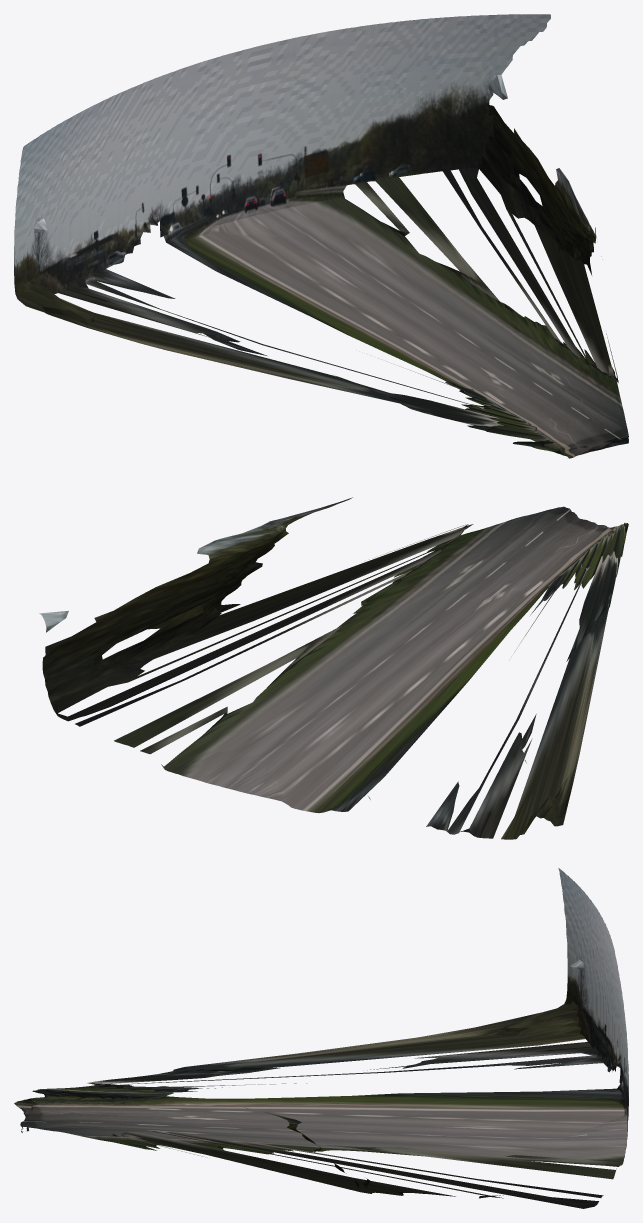
The picture shows the model from 3 angles, top to bottom: view 1: azimuth 30°, elevation 25°; view 2: azimuth 150°, elevation 25°; view 3: azimuth 270°, elevation 25°; orthographic projection. The views are drawn at different scales.
Visible parts, largest first — view 1: defaultobject; view 2: defaultobject; view 3: defaultobject.
Part boxes in pixels (x1,y1,x2,y2): defaultobject: [14, 14, 628, 458]; defaultobject: [39, 497, 628, 839]; defaultobject: [14, 868, 628, 1208].
Bounding box in the file's own units: 40.03 × 13.06 × 44.81.
Materials: 1 (1 with a texture image).
